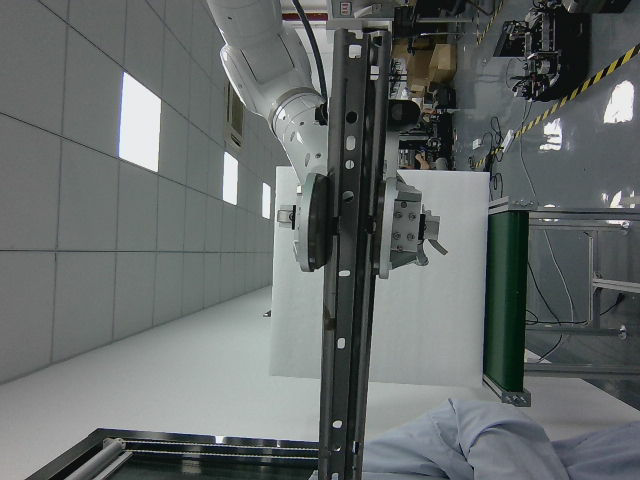left: (314, 32, 390, 477)
